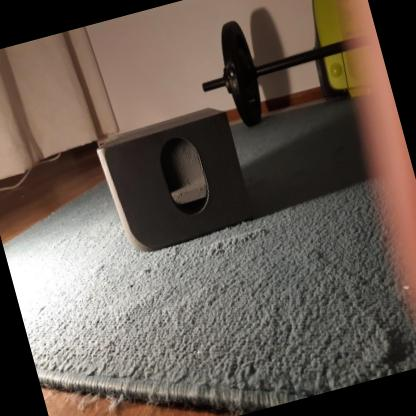CornerCasting: (92, 102, 258, 258)
